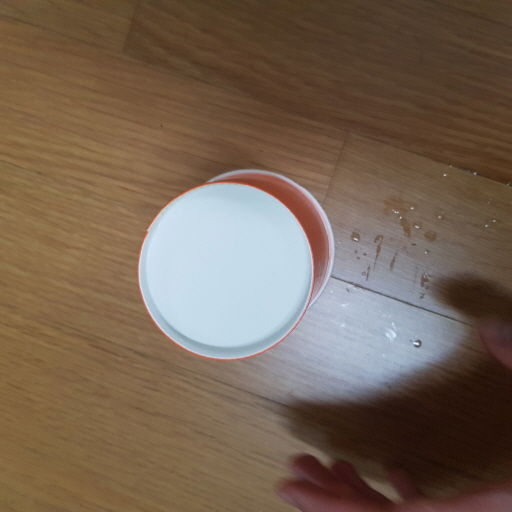Paper_1: (138, 166, 339, 362)
